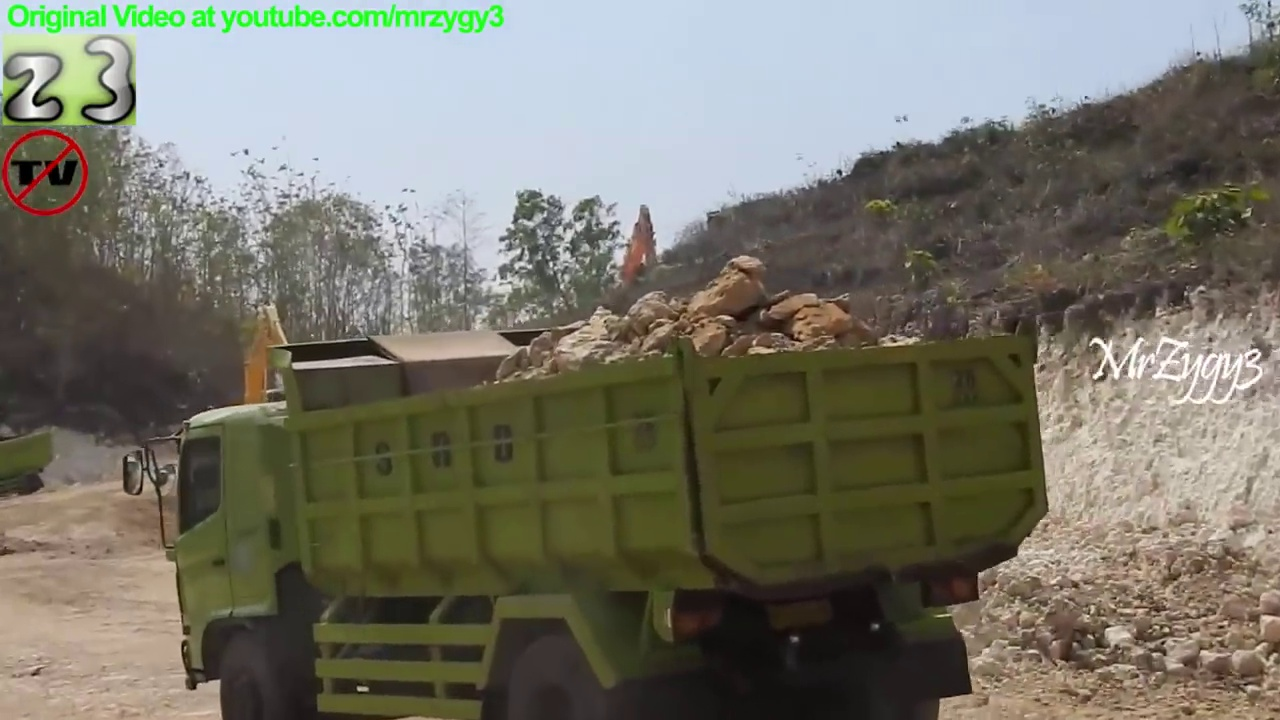excavator: (178, 295, 348, 510), (600, 202, 684, 336)
truck: (119, 310, 1055, 720), (1, 427, 55, 502)
